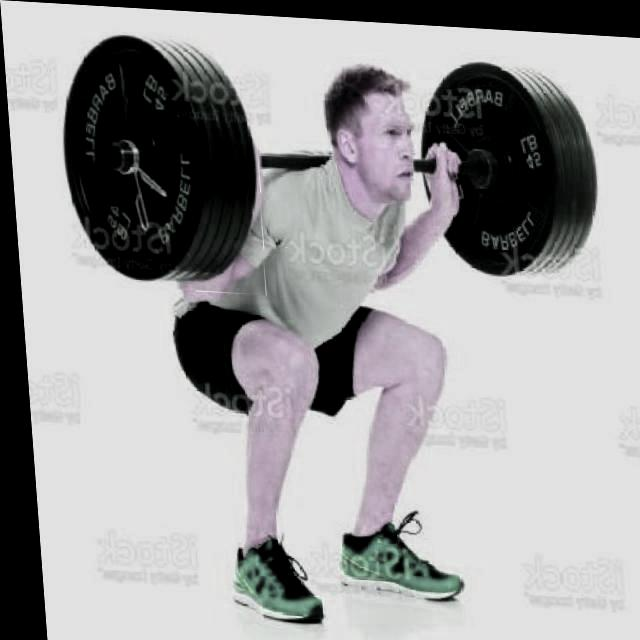barbell: (48, 20, 266, 292)
